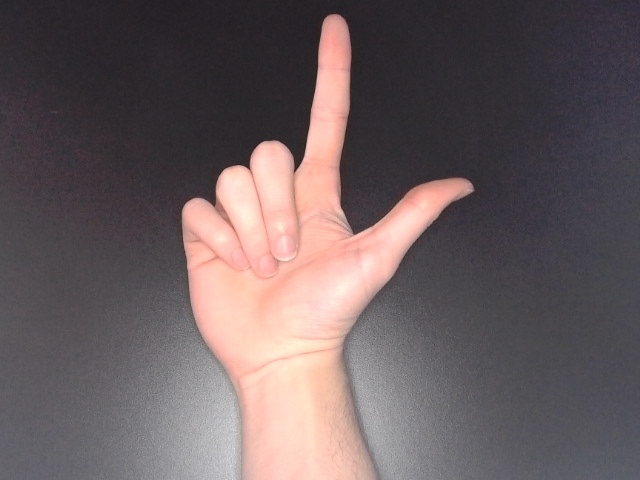l: (175, 10, 478, 400)
